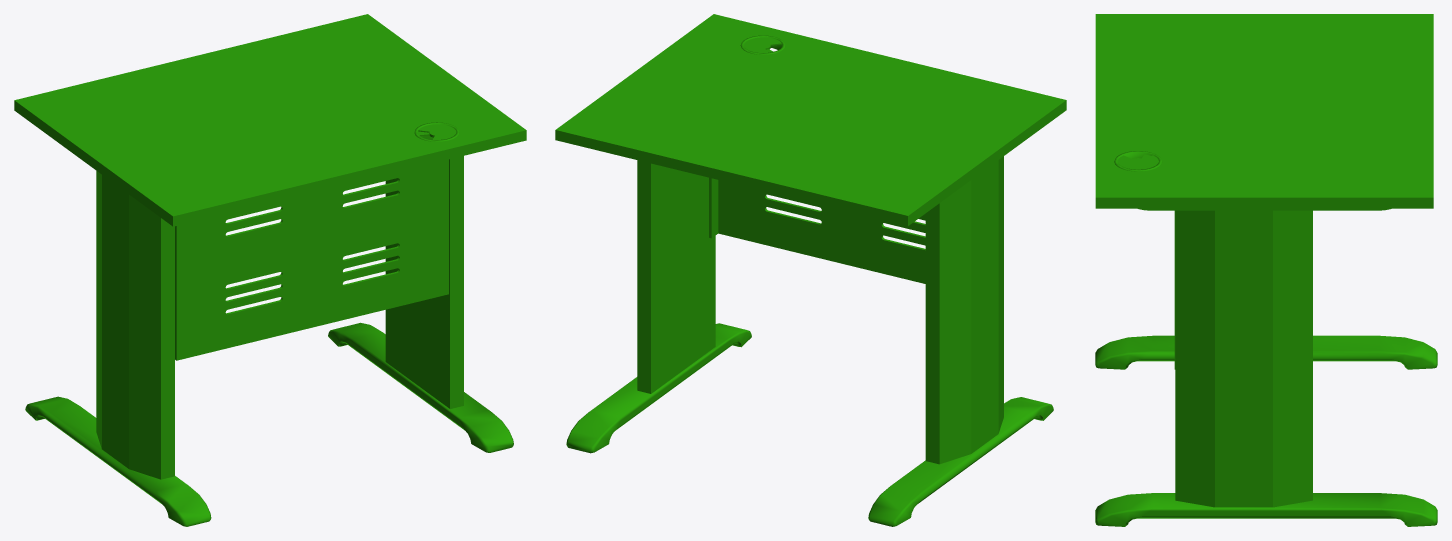
Rendered from TableShort.fbx.
3 renders of one model, left to right at view 1: azimuth 30°, elevation 25°; view 2: azimuth 150°, elevation 25°; view 3: azimuth 270°, elevation 25°, orthographic. The views are drawn at different scales.
Visible parts, largest first — view 1: Short_board_low, Short_cover_low, Short_legs_low, Short_stands_low, Short_hole_low.001; view 2: Short_board_low, Short_legs_low, Short_cover_low, Short_stands_low, Short_hole_low.001; view 3: Short_board_low, Short_legs_low, Short_stands_low, Short_hole_low.001, Short_bars_low.
Boxes of the visible parts, x1=… form: Short_board_low: x1=14, y1=14, x2=526, y2=226; Short_cover_low: x1=175, y1=135, x2=448, y2=360; Short_legs_low: x1=96, y1=156, x2=463, y2=479; Short_stands_low: x1=25, y1=322, x2=513, y2=526; Short_hole_low.001: x1=414, y1=122, x2=459, y2=141; Short_board_low: x1=555, y1=14, x2=1066, y2=225; Short_legs_low: x1=637, y1=156, x2=1003, y2=464; Short_cover_low: x1=709, y1=177, x2=925, y2=283; Short_stands_low: x1=566, y1=323, x2=1053, y2=526; Short_hole_low.001: x1=740, y1=35, x2=785, y2=54; Short_board_low: x1=1095, y1=14, x2=1433, y2=208; Short_legs_low: x1=1175, y1=210, x2=1312, y2=507; Short_stands_low: x1=1095, y1=335, x2=1437, y2=526; Short_hole_low.001: x1=1114, y1=151, x2=1162, y2=171; Short_bars_low: x1=1138, y1=208, x2=1391, y2=210.
Bounding box in the file's own units: 90 × 70.89 × 76.6.
